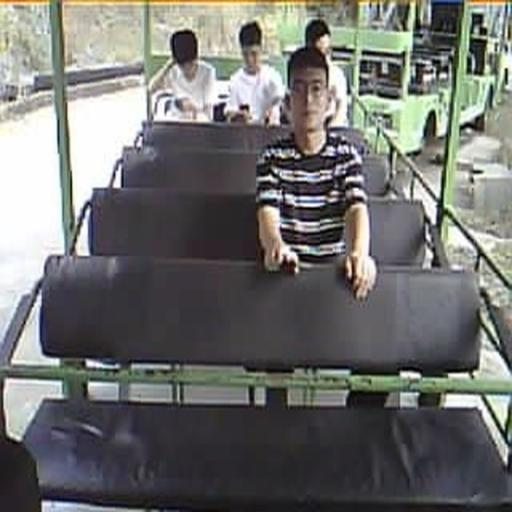persona: (254, 46, 378, 302), (148, 28, 218, 120), (226, 20, 286, 126), (300, 18, 350, 127)
